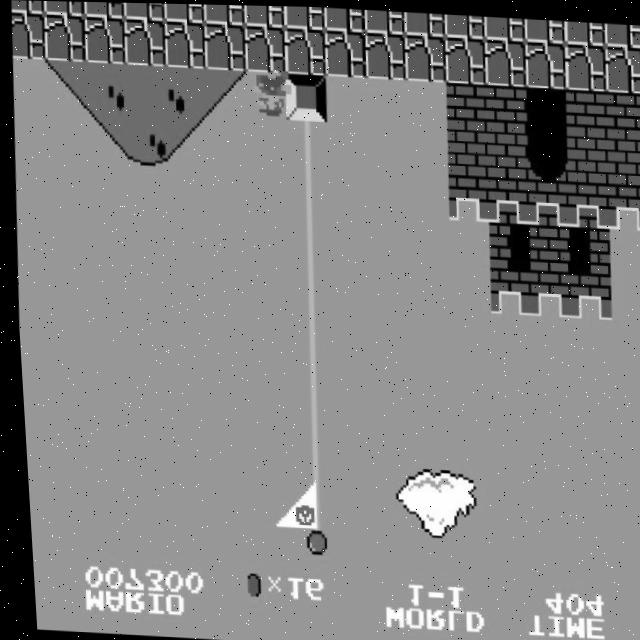1- brick_block: (563, 87, 608, 135)
11- little_mario: (245, 67, 292, 118)
17- undestructible_block: (201, 22, 247, 70), (241, 24, 287, 72), (281, 26, 327, 74), (81, 15, 126, 63), (161, 20, 206, 68), (322, 28, 367, 76), (362, 30, 407, 78), (402, 32, 447, 80), (482, 36, 527, 84), (562, 41, 607, 89), (41, 14, 86, 61), (121, 18, 166, 65), (442, 35, 487, 82), (522, 39, 567, 86), (601, 42, 640, 90), (9, 12, 45, 60), (562, 18, 606, 43), (362, 8, 405, 33), (402, 10, 445, 35), (442, 12, 485, 37), (482, 14, 525, 39), (522, 16, 565, 41), (322, 6, 366, 30), (282, 5, 325, 28), (242, 4, 285, 26), (602, 21, 640, 45), (202, 4, 245, 24), (162, 3, 205, 22), (122, 2, 165, 20), (82, 1, 125, 17), (42, 1, 85, 15), (10, 0, 44, 14)
7- goal_pole: (287, 529, 333, 576), (285, 346, 331, 393), (283, 164, 329, 211), (287, 483, 332, 531), (285, 300, 330, 348), (284, 209, 329, 257), (283, 117, 328, 165), (286, 392, 331, 439), (284, 255, 329, 302), (286, 438, 331, 484)
9- hard_block: (282, 72, 327, 120)
